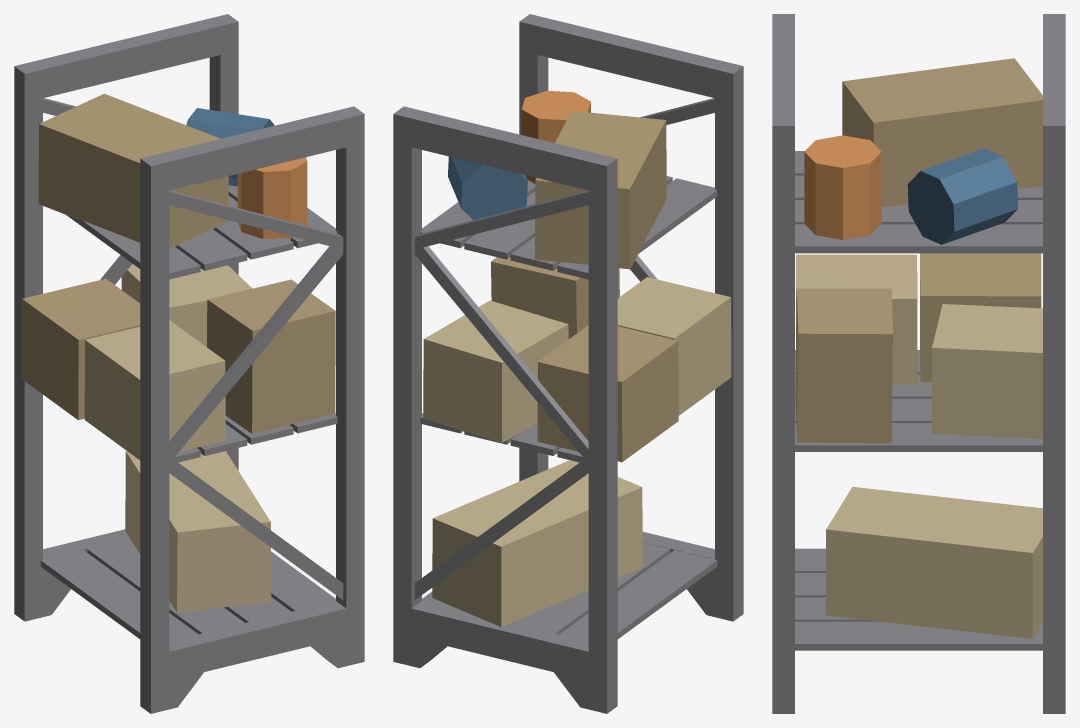
Rendered from shelf middle.fbx.
3 renders of one model, left to right at view 1: azimuth 30°, elevation 25°; view 2: azimuth 150°, elevation 25°; view 3: azimuth 270°, elevation 25°, orthographic. The views are drawn at different scales.
Parts seen in each view (by area): view 1: shelf middle; view 2: shelf middle; view 3: shelf middle.
Boxes of the visible parts, x1,y1,x2,y2 form: shelf middle: (14,14,364,713); shelf middle: (393,14,743,713); shelf middle: (772,14,1065,713).
Size of the model in its own units: 58.77 by 141 by 63.91.
1 material, 1 textured.
